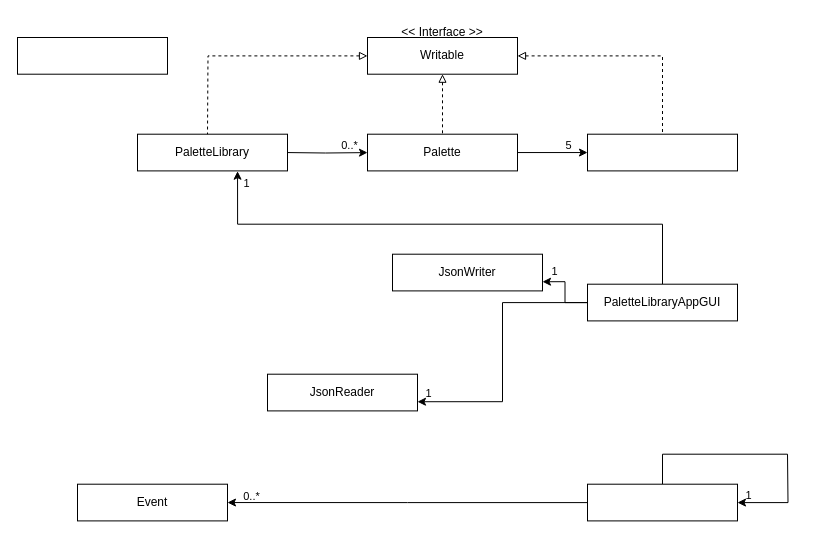
The diagram is 814 pixels wide and 538 high, and some of its shapes have lost their labels. The shapes that lost their labels are listed below. From the top down, each one's centre as x and y in pixels, then its label:
At [92,55]: "Main".
At [662,152]: "Colour".
At [662,502]: "EventLog".
